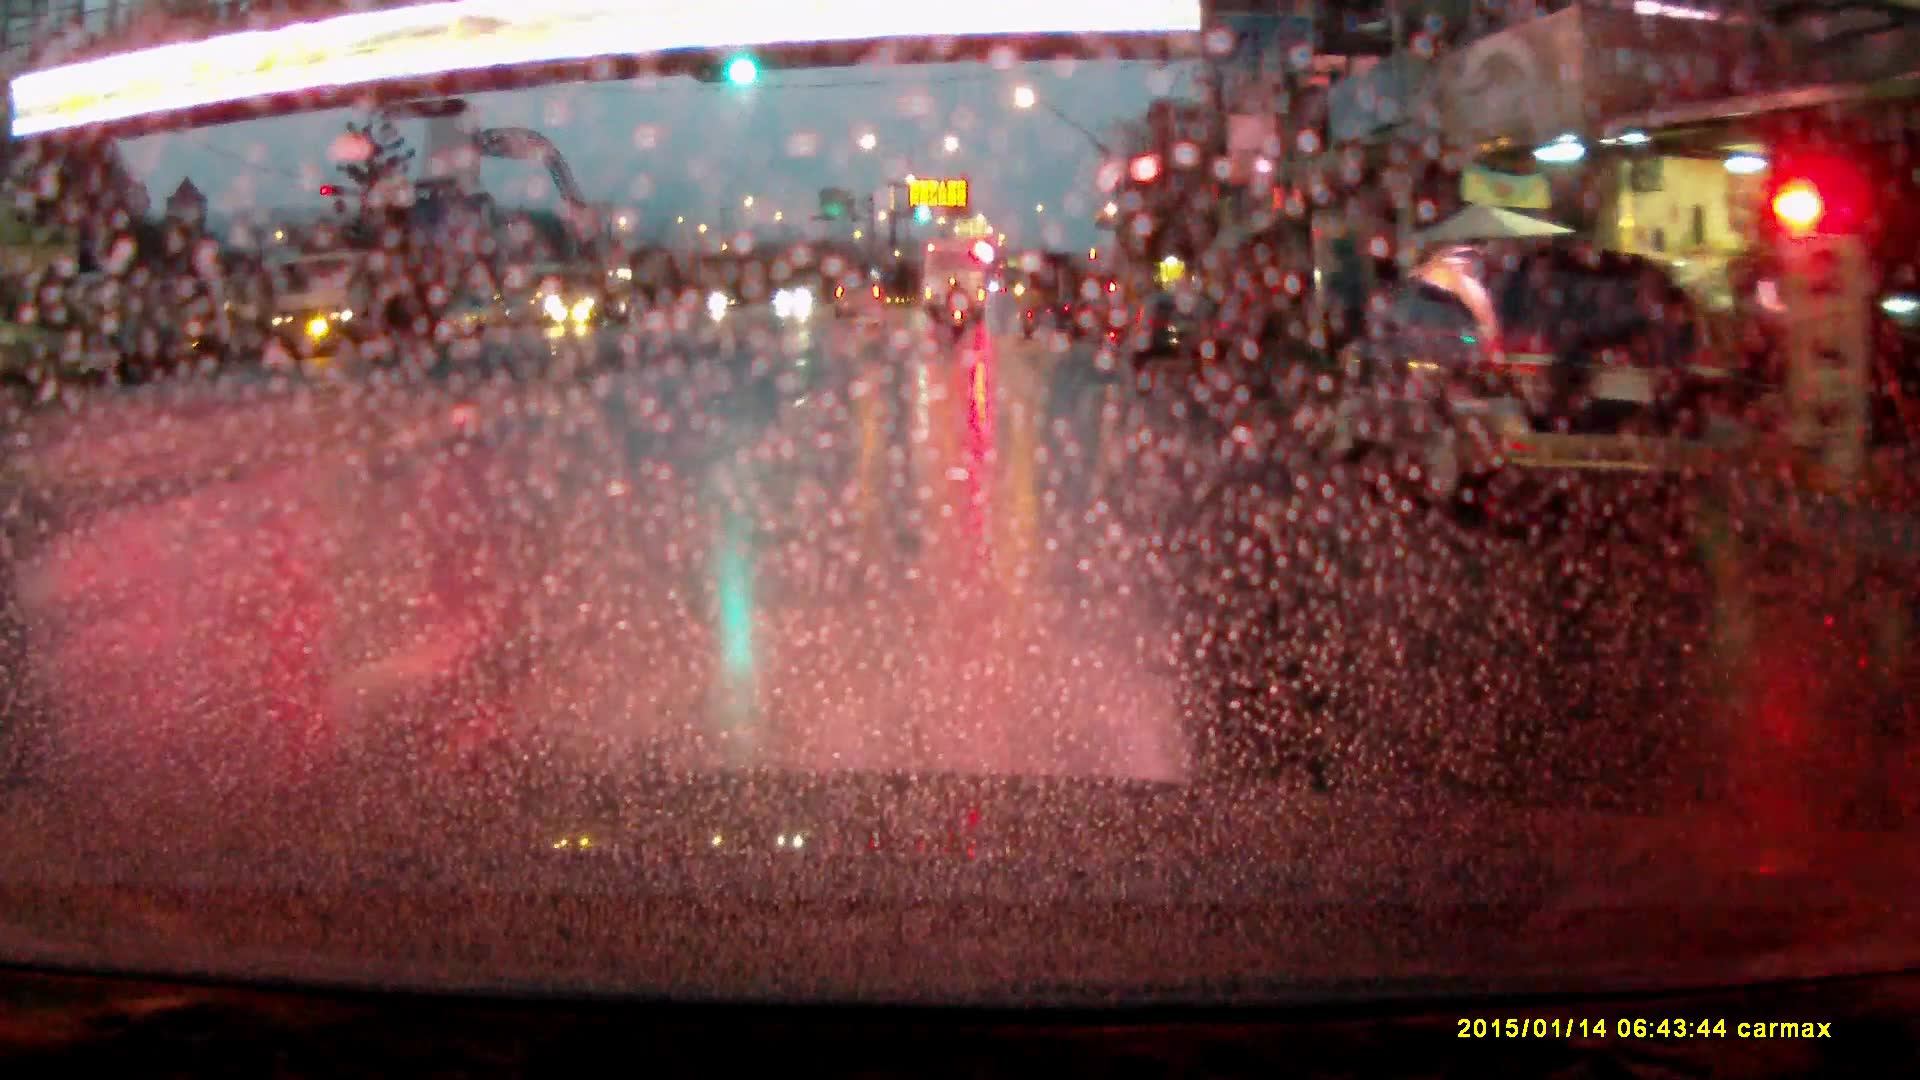rider: (946, 290, 968, 342)
vehicle: (1327, 245, 1759, 523), (265, 256, 439, 358), (1126, 292, 1231, 376), (918, 237, 988, 332), (547, 264, 642, 326), (1065, 296, 1132, 346), (830, 272, 887, 319)
